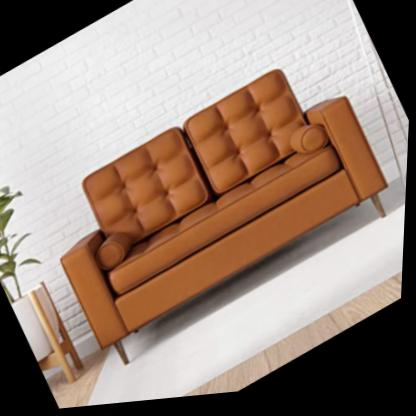Sofa: (30, 40, 409, 382)
